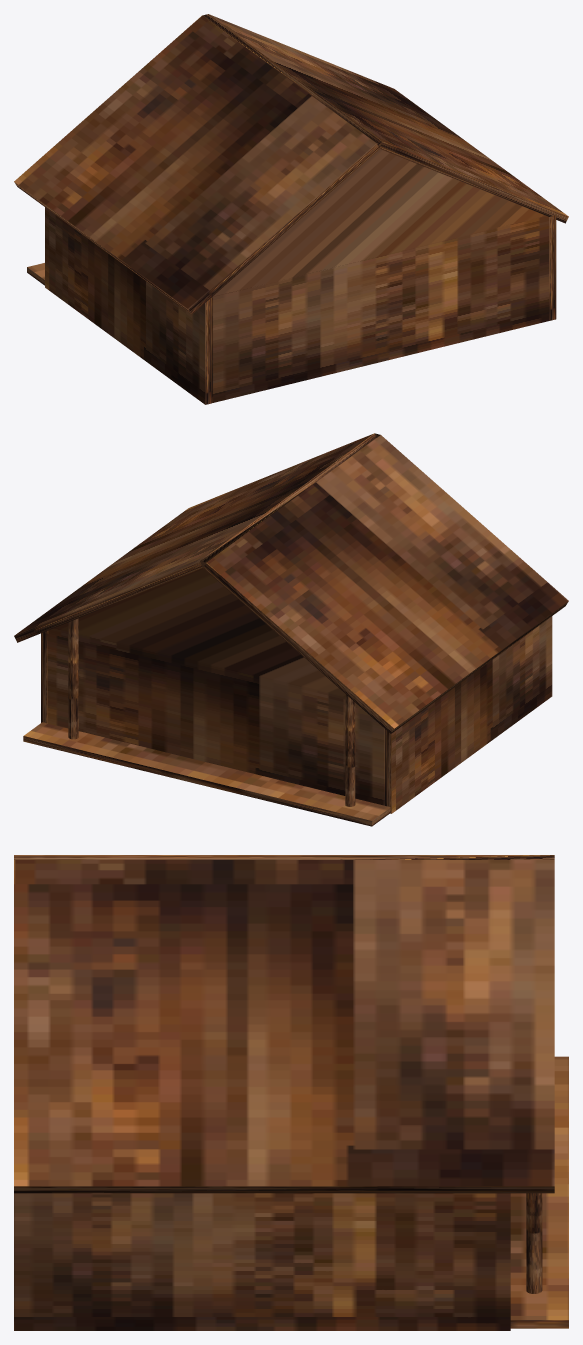
The model's file is cabana.fbx.
The picture shows the model from 3 angles, top to bottom: view 1: azimuth 30°, elevation 25°; view 2: azimuth 150°, elevation 25°; view 3: azimuth 270°, elevation 25°; orthographic projection. The views are drawn at different scales.
Visible parts, largest first — view 1: Cube.005; view 2: Cube.005, Cube, Cylinder; view 3: Cube.005, Cube, Cylinder.
Part boxes in pixels (x1=…): Cube.005: x1=14, y1=14, x2=568, y2=404; Cube.005: x1=14, y1=433, x2=568, y2=813; Cube: x1=23, y1=722, x2=390, y2=826; Cylinder: x1=68, y1=618, x2=355, y2=806; Cube.005: x1=14, y1=855, x2=554, y2=1330; Cube: x1=510, y1=1056, x2=568, y2=1328; Cylinder: x1=526, y1=1193, x2=542, y2=1293.
Size of the model in its own units: 1123 by 620 by 916.
3 materials, 3 textured.
